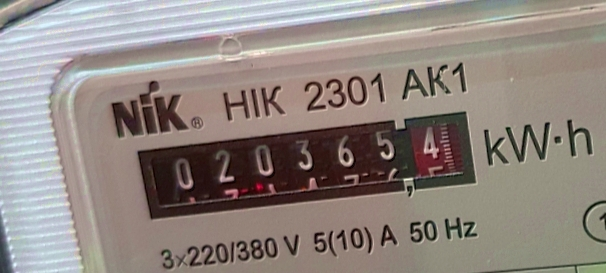0: (252, 143, 274, 180), (171, 157, 194, 192)
2: (210, 148, 235, 186)
3: (292, 137, 313, 173)
4: (418, 125, 440, 161)
5: (373, 129, 395, 163)
6: (333, 133, 355, 170)
screen: (119, 101, 494, 231)
